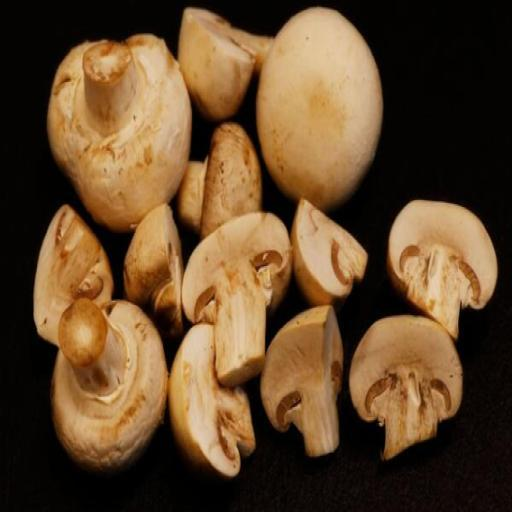mushroom: (43, 28, 192, 239), (259, 2, 390, 212), (50, 299, 169, 489), (347, 313, 486, 475), (384, 178, 510, 344), (181, 212, 294, 386), (167, 317, 263, 493), (259, 304, 346, 476), (27, 194, 120, 348), (177, 4, 265, 126), (185, 120, 271, 244), (113, 185, 187, 328), (293, 192, 378, 307)
